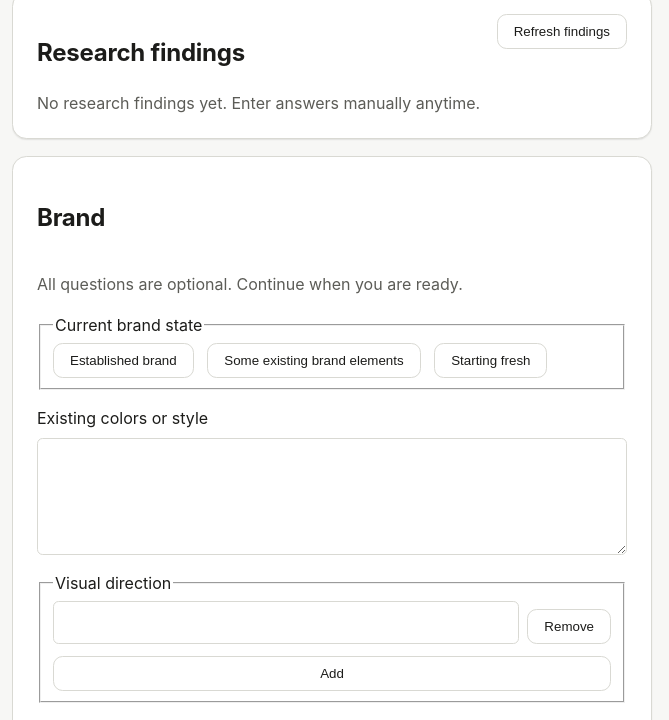
Test case: DeeperOnboardingFlow › hides brand existing style when starting fresh without a saved answer
(page scrolled)
Click the button "Starting fresh" at coordinates (491, 360), box [434, 343, 548, 378]
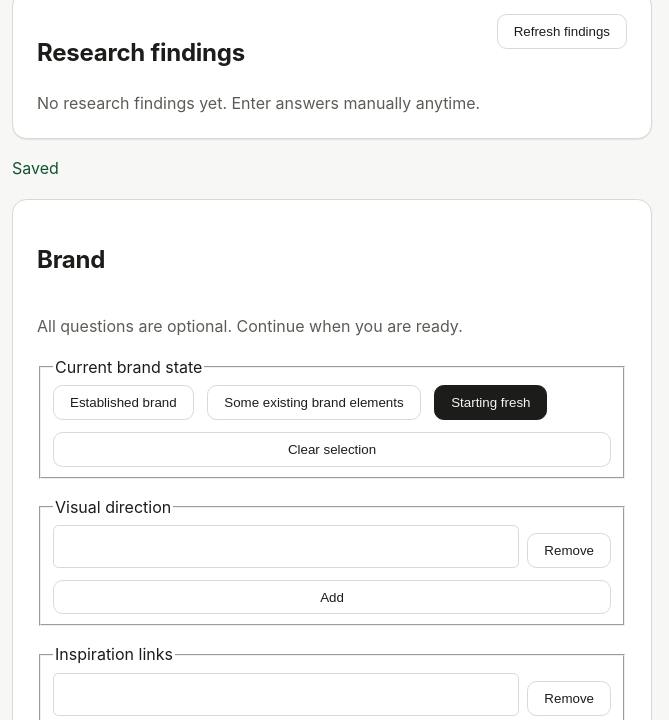
Now the text "Existing colors or style" is gone
